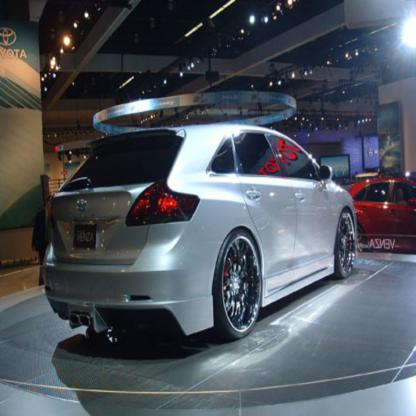Car: (44, 125, 358, 341), (350, 178, 416, 255)
